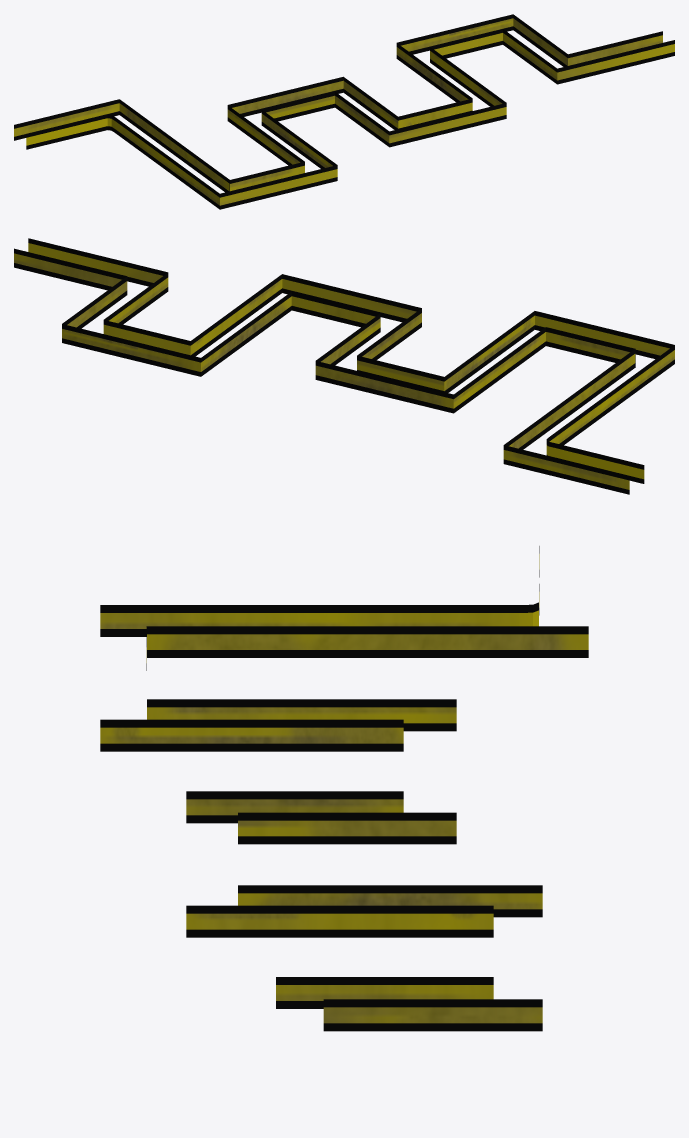
File: midwall.dae
The picture shows the model from 3 angles, top to bottom: view 1: azimuth 30°, elevation 25°; view 2: azimuth 150°, elevation 25°; view 3: azimuth 270°, elevation 25°; orthographic projection. The views are drawn at different scales.
Visible parts, largest first — view 1: Plane.002, Plane.001; view 2: Plane.002, Plane.001; view 3: Plane.002, Plane.001.
Part boxes in pixels (left/top/right/bottom): Plane.002: left=14, top=18, right=674, bottom=205; Plane.001: left=14, top=14, right=674, bottom=209; Plane.002: left=14, top=243, right=674, bottom=489; Plane.001: left=14, top=238, right=674, bottom=494; Plane.002: left=100, top=554, right=588, bottom=1023; Plane.001: left=100, top=546, right=588, bottom=1031.
Size of the model in its own units: 30.57 by 11.08 by 0.8.
2 materials, 1 textured.
